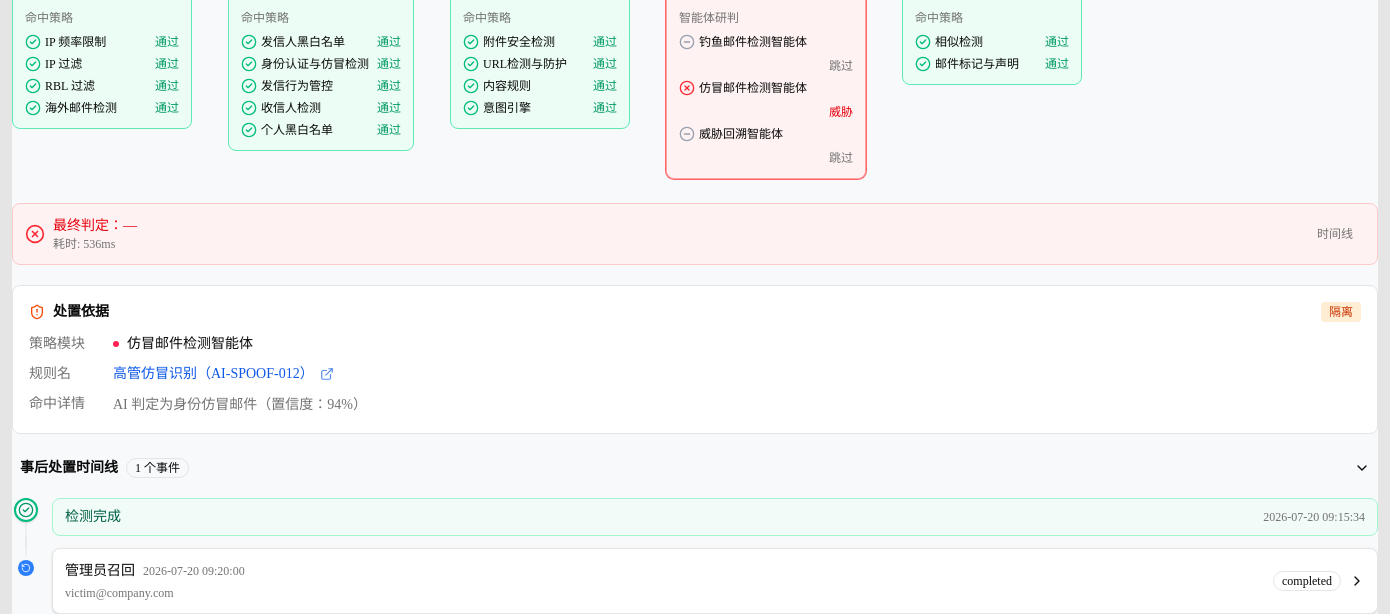
Scenario: AnalysisSection (v2 spec alignment) › timeline renders events at L1 (summary only) and event detail at L2 on click
(page scrolled)
Click the button with test id "analysis-timeline-event-event-501" at (100, 570), box [52,548,1378,613]
(page scrolled)
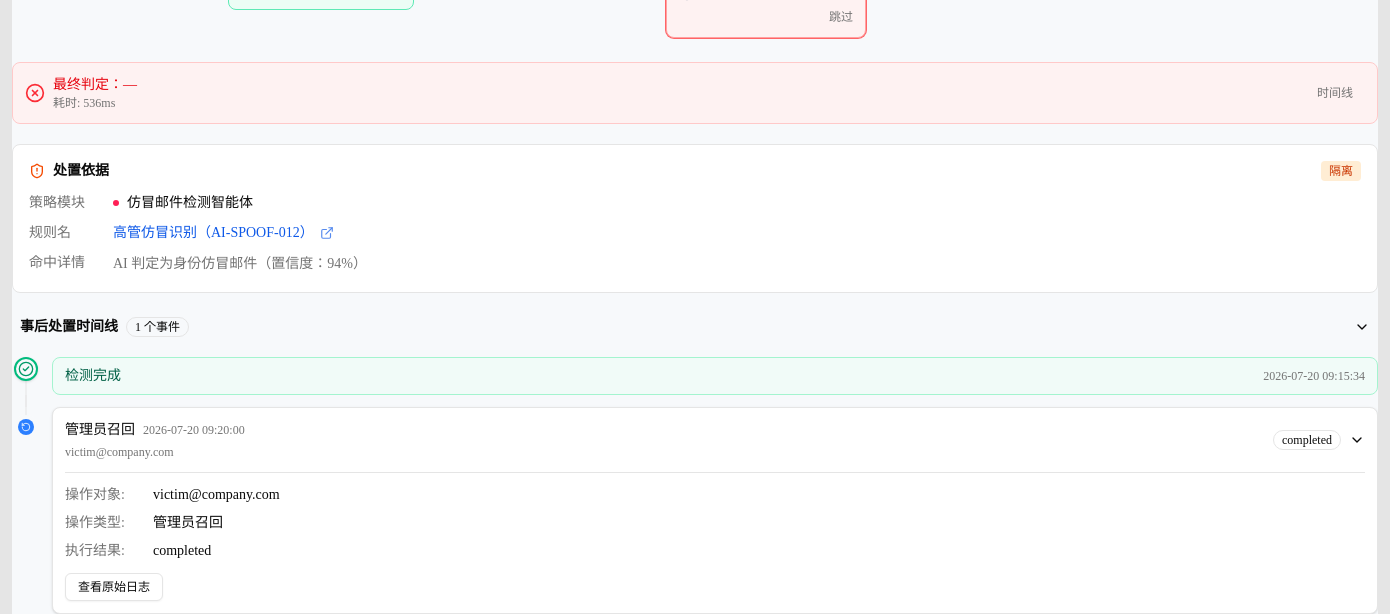
Check: the element with test id "analysis-timeline-event-event-501-detail" shows "操作对象", box [65,487,121,502]
Check: the element with test id "analysis-timeline-event-event-501-detail" shows "操作类型", box [65,515,121,530]
Check: the element with test id "analysis-timeline-event-event-501-detail" shows "执行结果", box [65,543,121,558]
